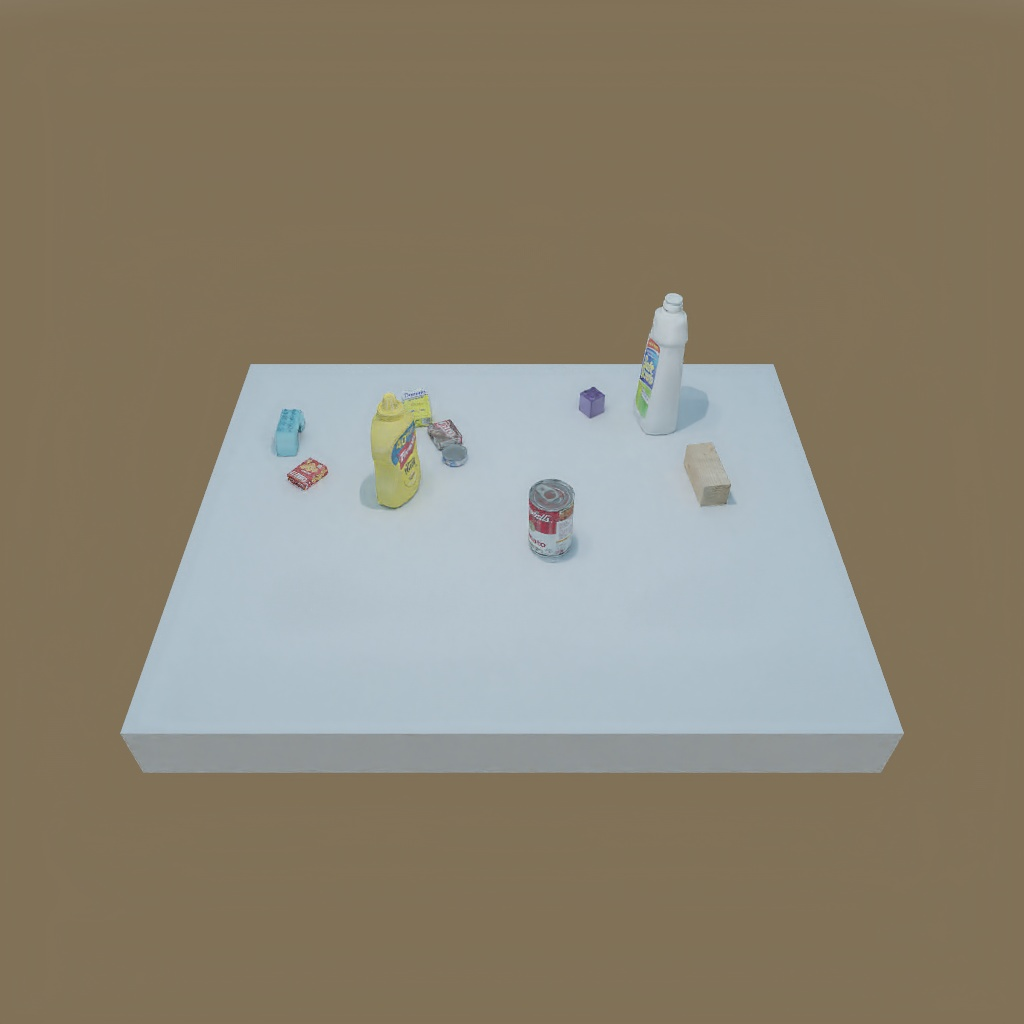mustard_bottle: (368, 392, 424, 506)
pudding_box: (425, 417, 467, 450)
tomato_soup_can: (524, 478, 575, 560)
wood_block: (679, 441, 732, 511)
